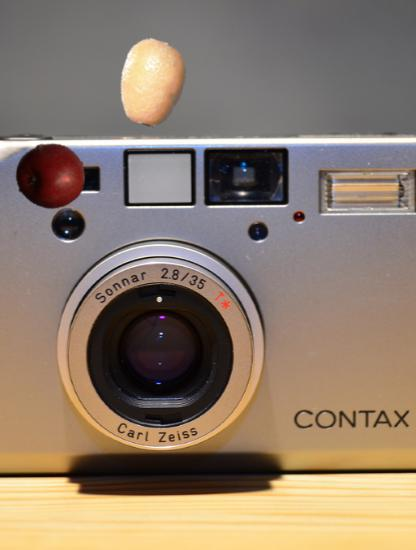Apple: (16, 141, 86, 211)
Kumquats: (109, 40, 194, 125)
